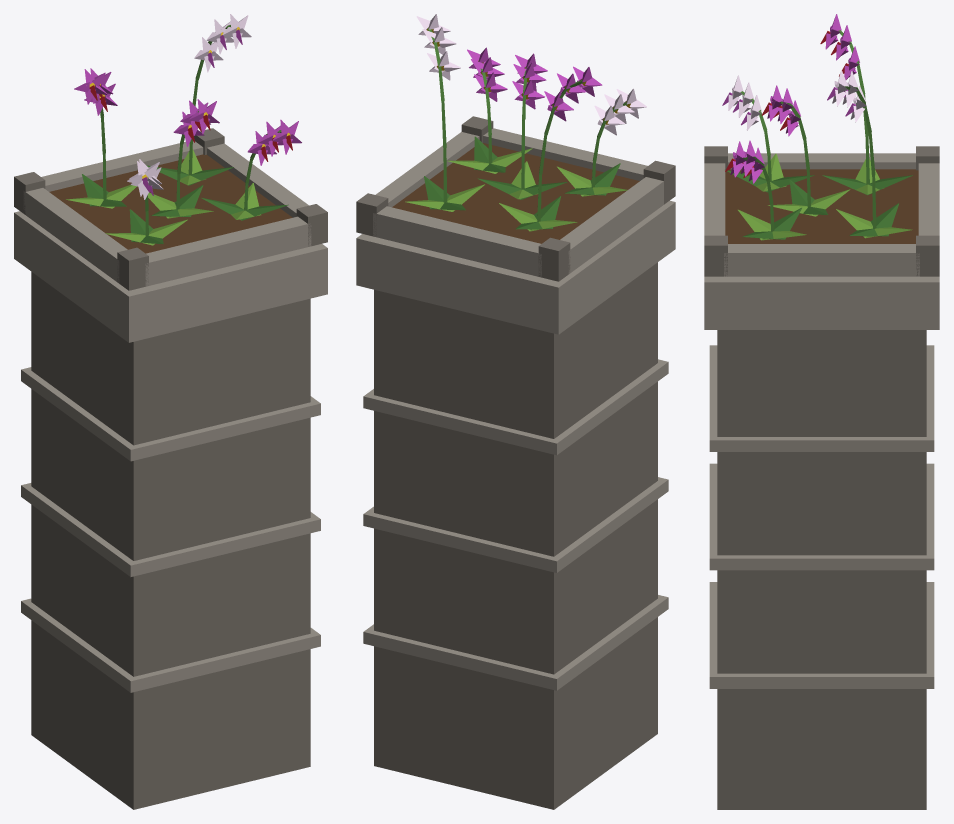
Rendered from decor_orchids.glb.
3 renders of one model, left to right at view 1: azimuth 30°, elevation 25°; view 2: azimuth 150°, elevation 25°; view 3: azimuth 270°, elevation 25°, orthographic. The views are drawn at different scales.
Visible parts, largest first — view 1: decor_orchids; view 2: decor_orchids; view 3: decor_orchids.
Part boxes in pixels (bbox=[...]): decor_orchids: bbox=[14, 14, 327, 809]; decor_orchids: bbox=[356, 14, 675, 809]; decor_orchids: bbox=[704, 14, 939, 809].
Bounding box in the file's own units: 1.8 × 6.16 × 1.8.
